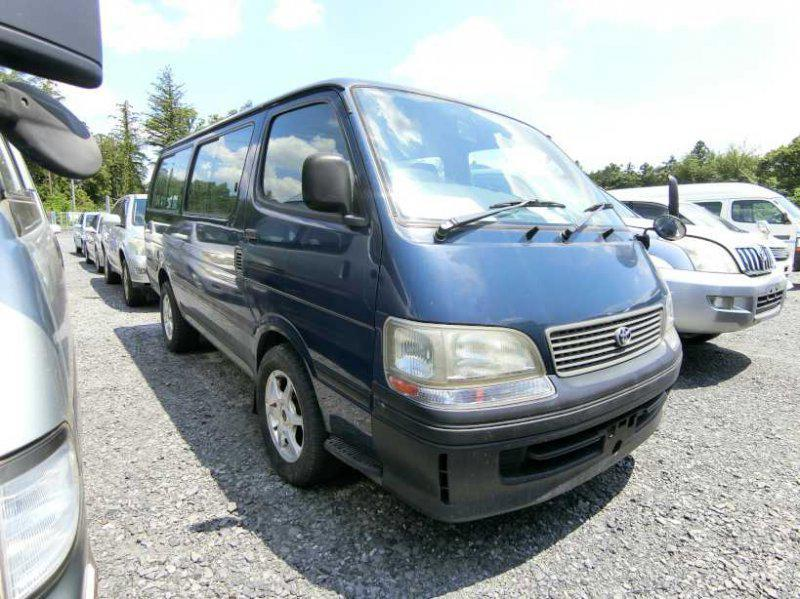Van: (144, 78, 691, 531)
